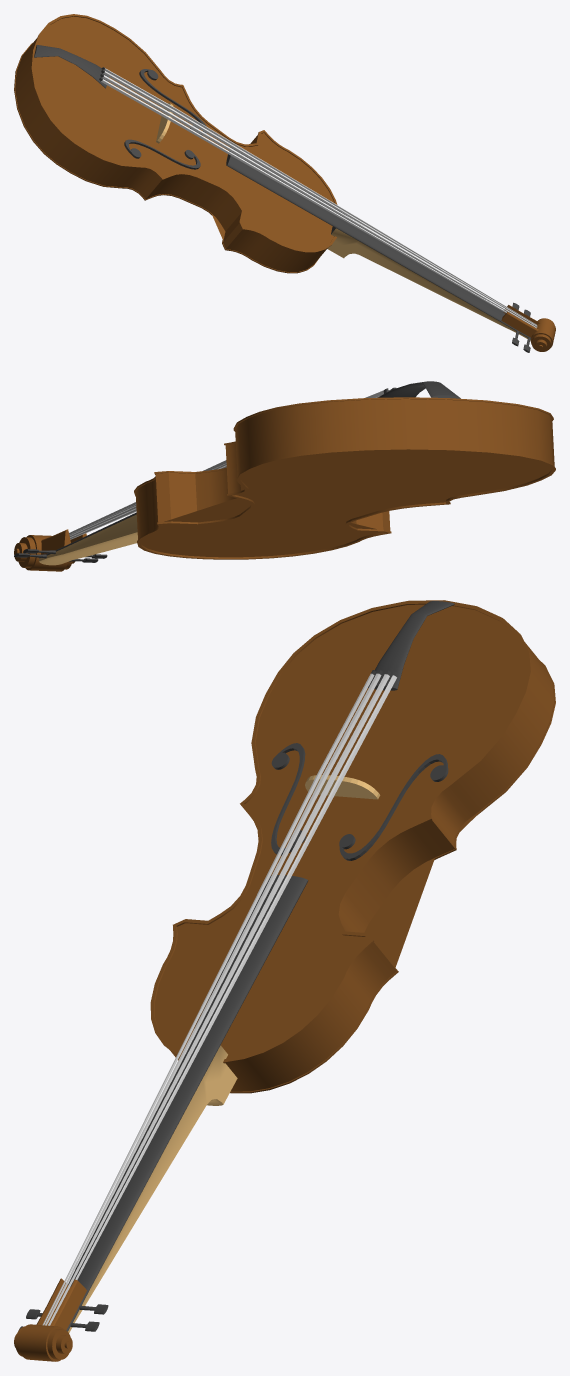
File: Violin.fbx
3 views of the same model, one above another, from view 1: azimuth 30°, elevation 25°; view 2: azimuth 150°, elevation 25°; view 3: azimuth 270°, elevation 25° (orthographic). The views are drawn at different scales.
Parts seen in each view (by area): view 1: Circle.003; view 2: Circle.003; view 3: Circle.003.
Part boxes in pixels (x1,y1,x2,y2): Circle.003: (14,14,555,352); Circle.003: (14,381,555,571); Circle.003: (14,600,555,1361).
Size of the model in its own units: 46.38 by 31.07 by 32.04.
